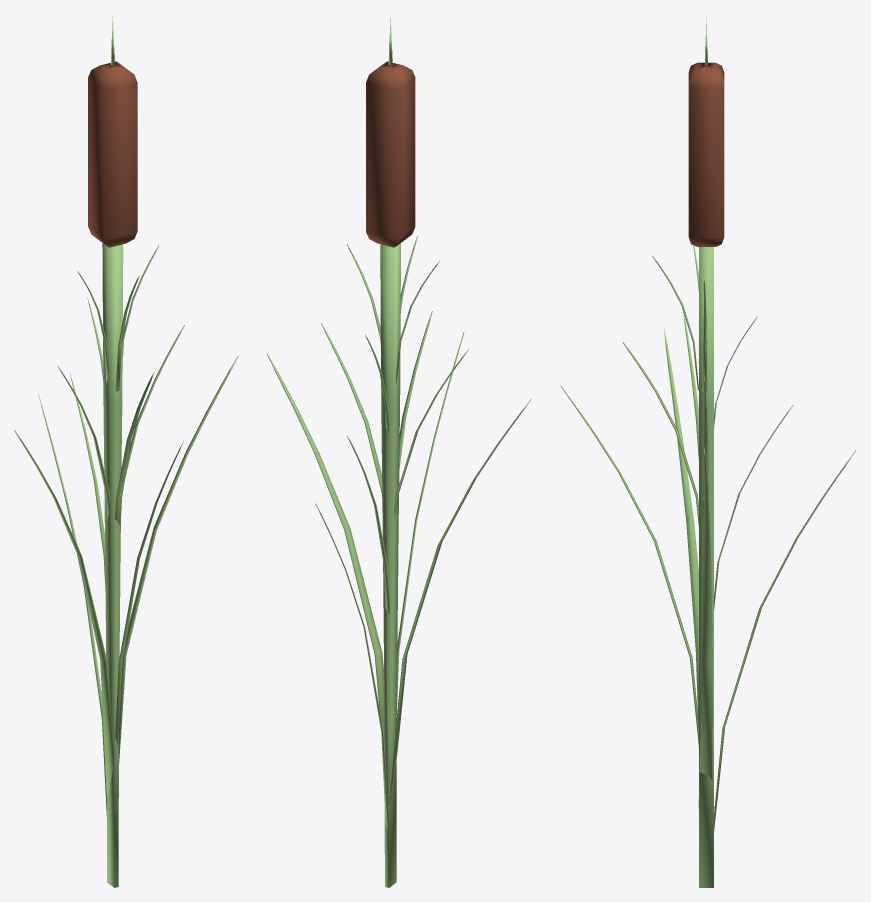
File: reeds.fbx
3 views of the same model, side by side, from view 1: azimuth 30°, elevation 25°; view 2: azimuth 150°, elevation 25°; view 3: azimuth 270°, elevation 25° (orthographic).
Parts seen in each view (by area): view 1: Plant; view 2: Plant; view 3: Plant.
Boxes of the visible parts, bbox=[...] form: Plant: bbox=[14, 15, 238, 887]; Plant: bbox=[267, 17, 531, 887]; Plant: bbox=[560, 15, 856, 887].
Size of the model in its own units: 269 by 915 by 281.
